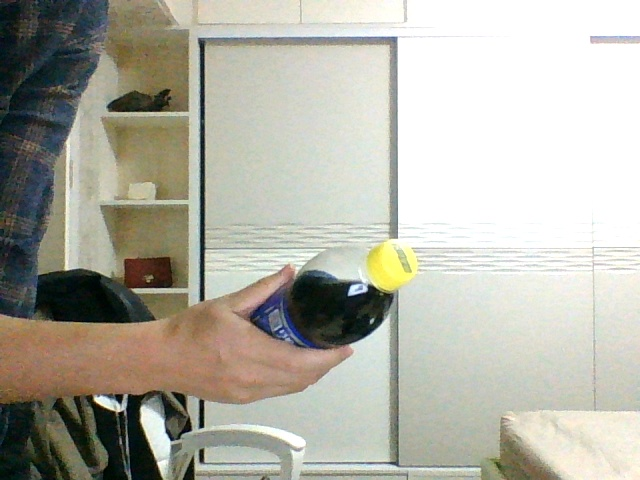Cola: (249, 235, 419, 349)
